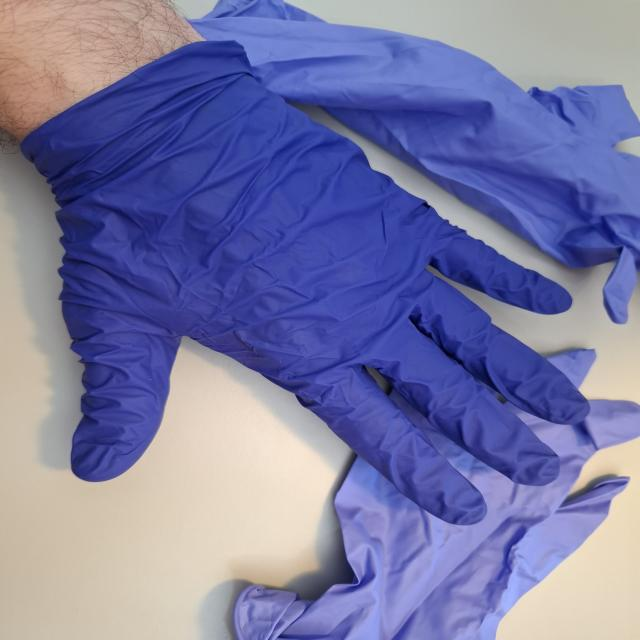glove_on: (18, 38, 596, 528)
